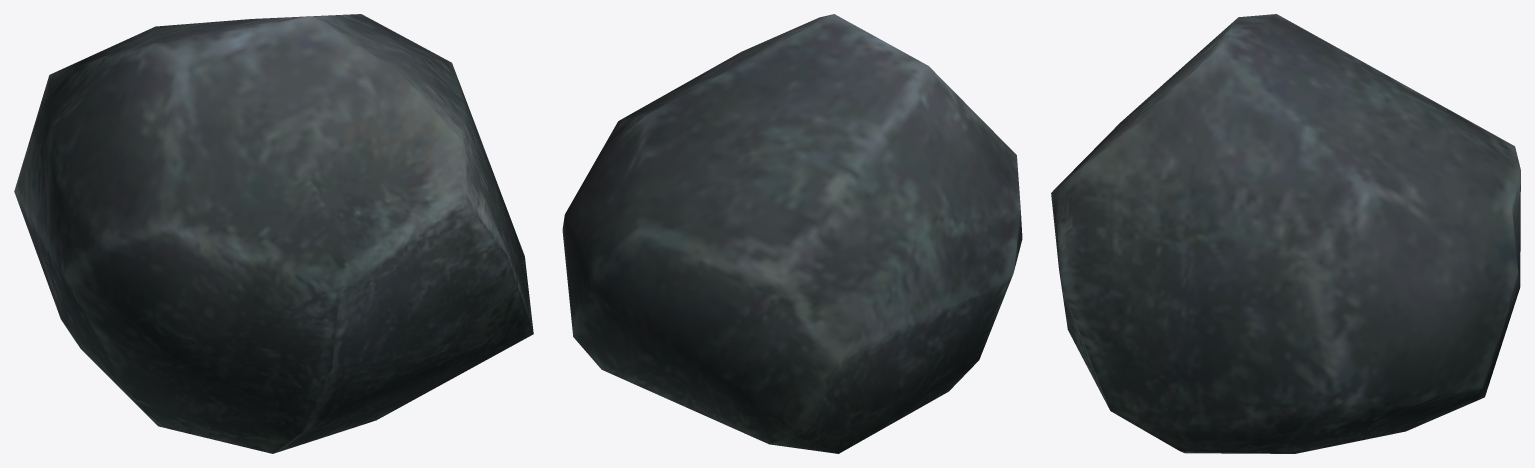
Rendered from Rock.fbx.
3 renders of one model, left to right at view 1: azimuth 30°, elevation 25°; view 2: azimuth 150°, elevation 25°; view 3: azimuth 270°, elevation 25°, orthographic. The views are drawn at different scales.
Parts seen in each view (by area): view 1: Rock; view 2: Rock; view 3: Rock.
Boxes of the visible parts, x1,y1,x2,y2 form: Rock: (14,14,533,453); Rock: (562,14,1022,453); Rock: (1051,14,1520,453).
Bounding box in the file's own units: 28196 × 23451 × 27041.
1 material, 1 textured.
